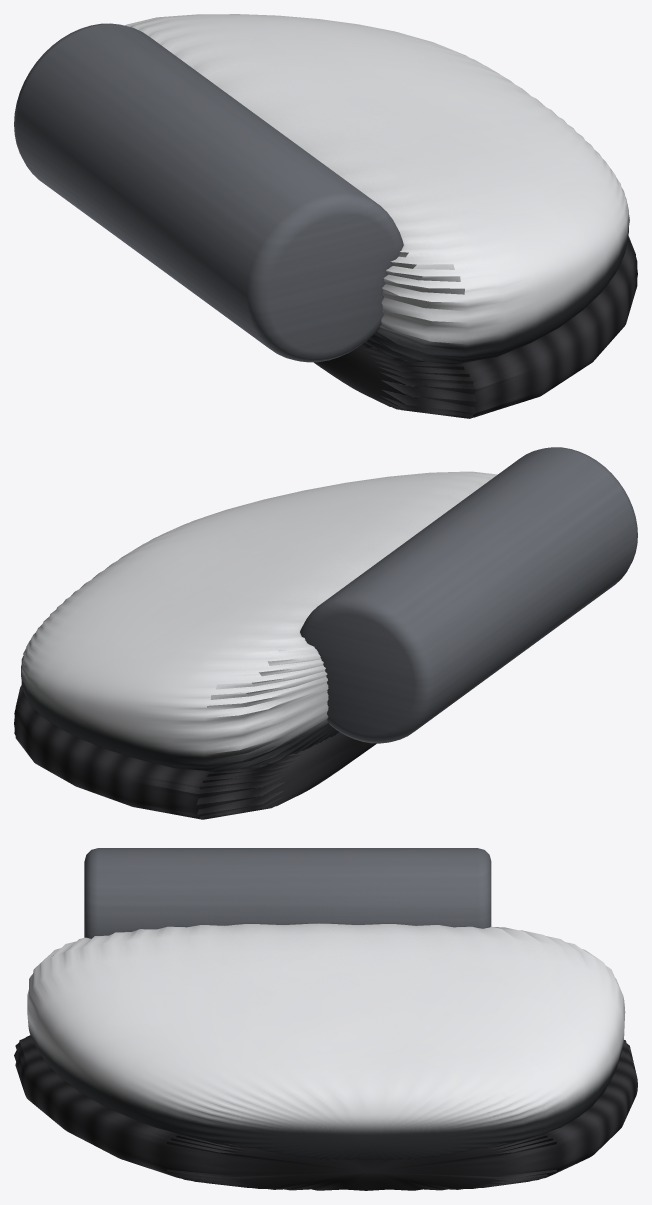
The model's file is right_toe.glb.
The picture shows the model from 3 angles, top to bottom: view 1: azimuth 30°, elevation 25°; view 2: azimuth 150°, elevation 25°; view 3: azimuth 270°, elevation 25°; orthographic projection. The views are drawn at different scales.
Visible parts, largest first — view 1: right_toe; view 2: right_toe; view 3: right_toe.
Boxes of the visible parts, x1,y1,x2,y2 form: right_toe: [14, 14, 637, 418]; right_toe: [14, 447, 637, 819]; right_toe: [14, 848, 637, 1190].
Size of the model in its own units: 0.0659 by 0.031 by 0.092.
Materials: 1 (1 with a texture image).
